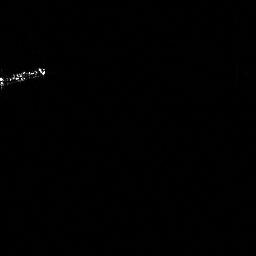ship: (1, 62, 50, 92)
